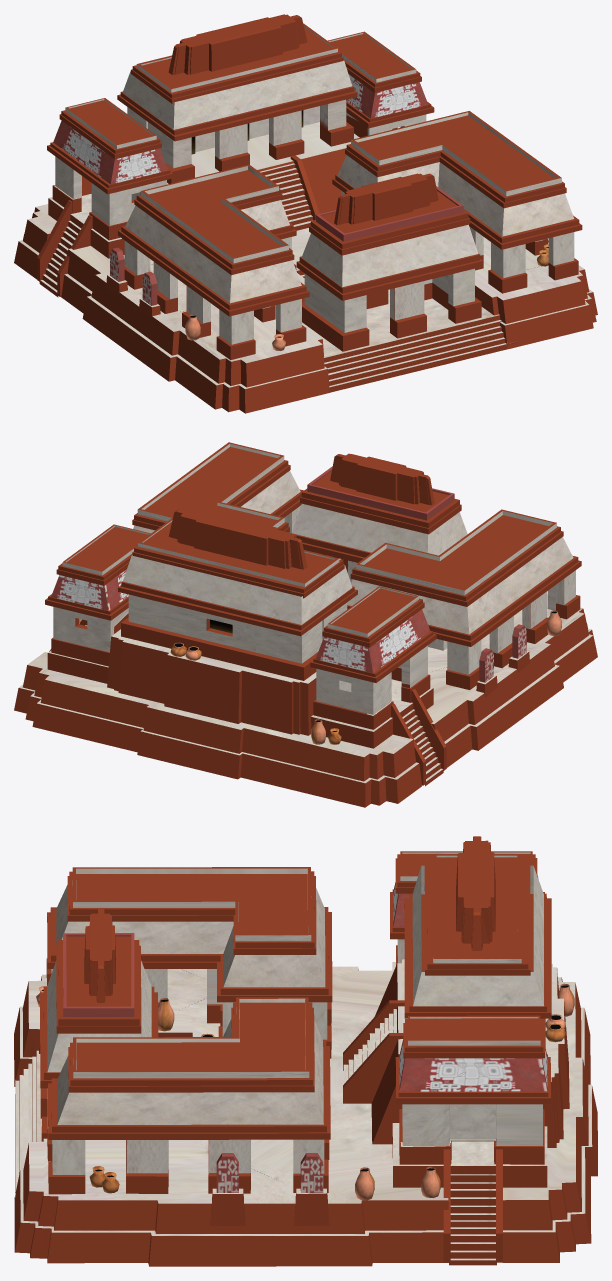
File: palacio.dae
3 renders of one model, top to bottom at view 1: azimuth 30°, elevation 25°; view 2: azimuth 150°, elevation 25°; view 3: azimuth 270°, elevation 25°, orthographic. The views are drawn at different scales.
Parts seen in each view (by area): view 1: palace_1; view 2: palace_1; view 3: palace_1.
Boxes of the visible parts, x1=… form: palace_1: x1=14, y1=14, x2=597, y2=413; palace_1: x1=14, y1=442, x2=597, y2=807; palace_1: x1=14, y1=836, x2=597, y2=1266.
Size of the model in its own units: 28.86 by 28.7 by 14.64.
